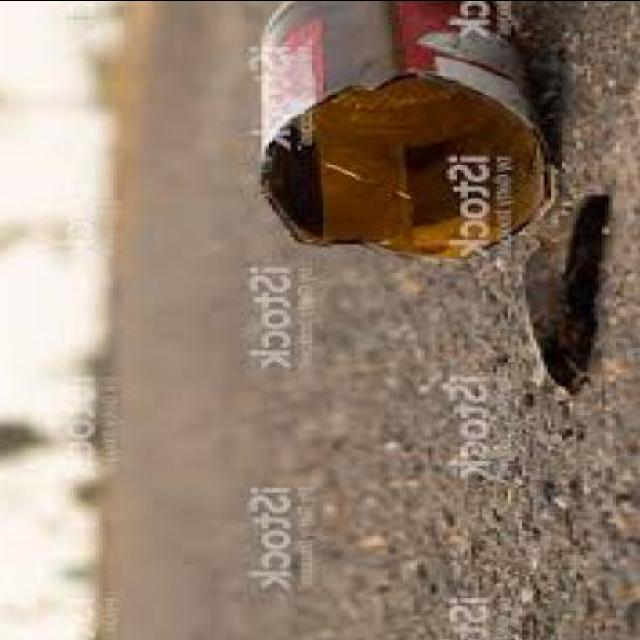kaca: (253, 0, 553, 261), (522, 192, 605, 390)
